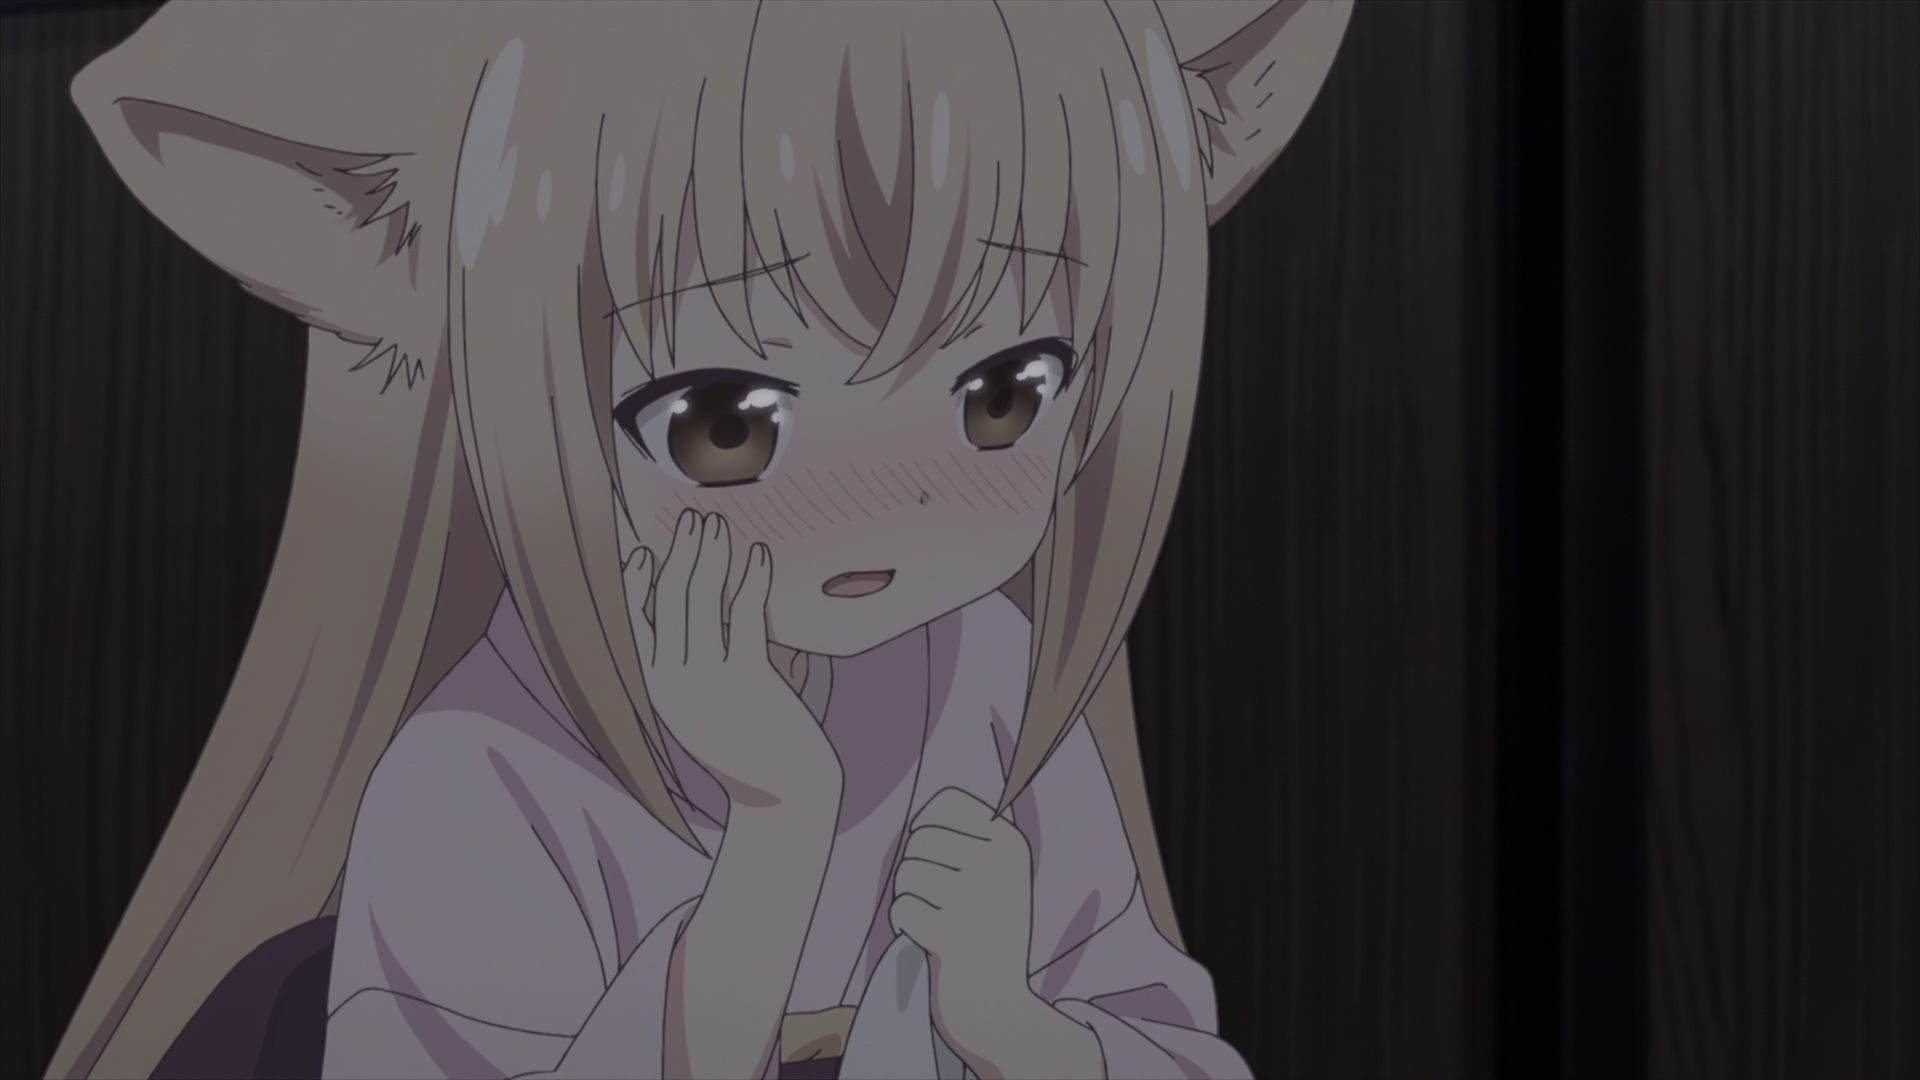柚: (45, 1, 1357, 1080)
